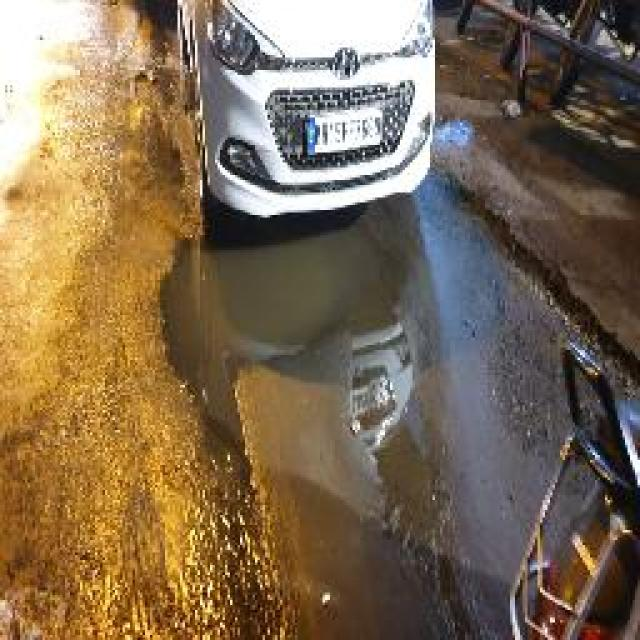puddle: (162, 212, 492, 640)
